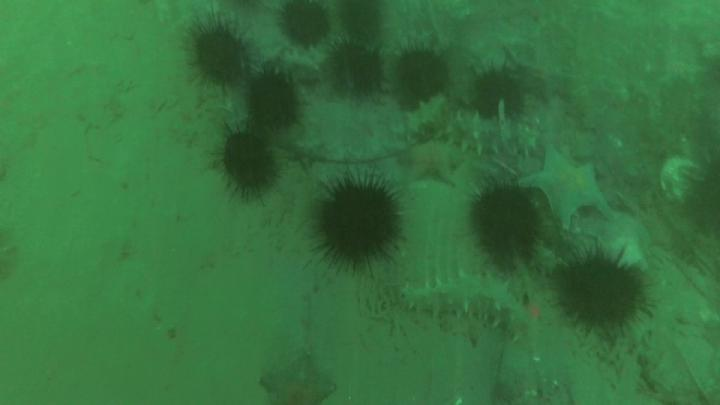echinus: (315, 187, 398, 260), (561, 257, 641, 332), (474, 185, 541, 267), (218, 135, 278, 191), (249, 73, 299, 132), (396, 48, 449, 101), (330, 47, 380, 101), (192, 30, 242, 83), (473, 69, 524, 120), (282, 2, 327, 48), (338, 2, 382, 40)
holothurian: (402, 270, 539, 346), (450, 115, 538, 158), (402, 97, 451, 137)
starfish: (524, 148, 612, 228), (260, 353, 340, 405), (403, 140, 463, 181)
